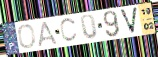0: (80, 14, 99, 41)
9: (102, 10, 121, 38)
A: (37, 20, 59, 48)
C: (59, 17, 78, 43)
O: (17, 23, 37, 50)
V: (119, 6, 139, 35)
